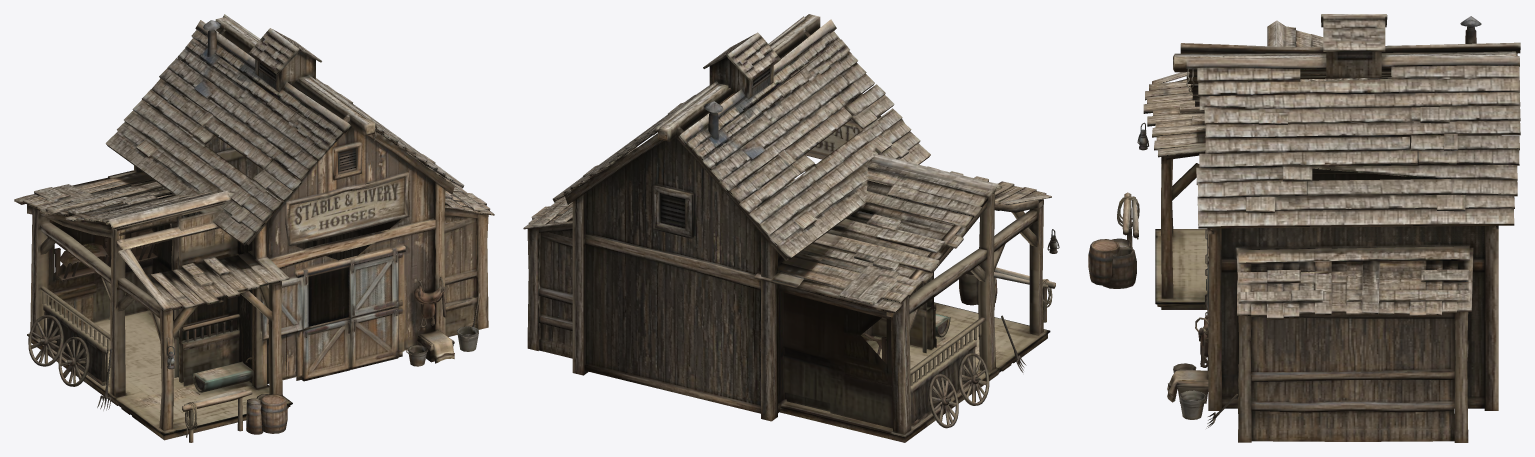
The model's file is stable.glb.
3 renders of one model, left to right at view 1: azimuth 30°, elevation 25°; view 2: azimuth 150°, elevation 25°; view 3: azimuth 270°, elevation 25°, orthographic. The views are drawn at different scales.
Visible parts, largest first — view 1: tripo_node_bd5fcd12-0296-4eff-b7a0-67c102f4b1cf; view 2: tripo_node_bd5fcd12-0296-4eff-b7a0-67c102f4b1cf; view 3: tripo_node_bd5fcd12-0296-4eff-b7a0-67c102f4b1cf.
Part boxes in pixels (x1,y1,x2,y2): tripo_node_bd5fcd12-0296-4eff-b7a0-67c102f4b1cf: [14, 14, 494, 442]; tripo_node_bd5fcd12-0296-4eff-b7a0-67c102f4b1cf: [523, 14, 1059, 442]; tripo_node_bd5fcd12-0296-4eff-b7a0-67c102f4b1cf: [1088, 14, 1520, 442].
Size of the model in its own units: 0.9995 by 0.7114 by 0.8149.
1 material, 1 textured.
